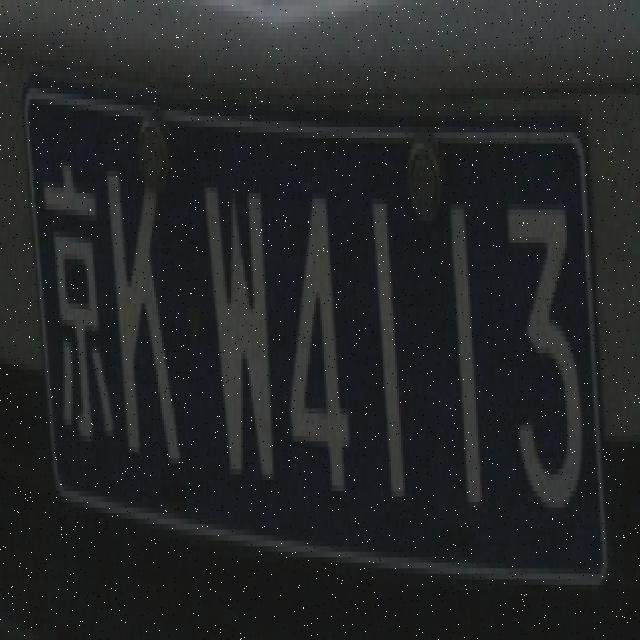LicensePlate: (13, 32, 616, 611)
